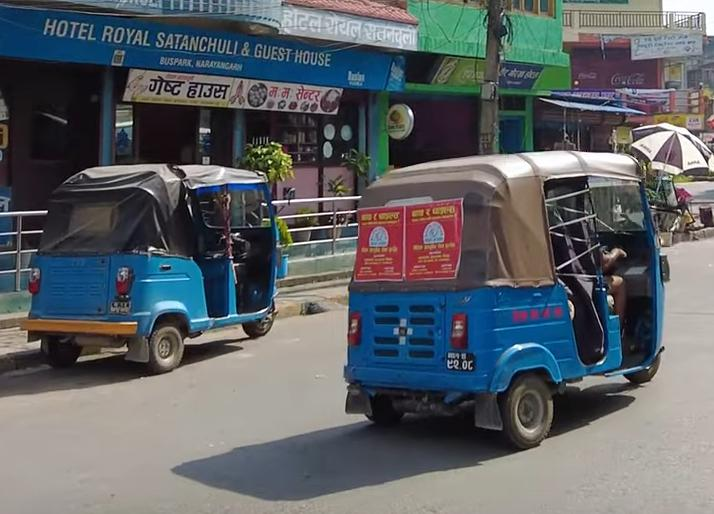auto_rickshaw: (339, 146, 675, 445), (24, 162, 293, 372)
